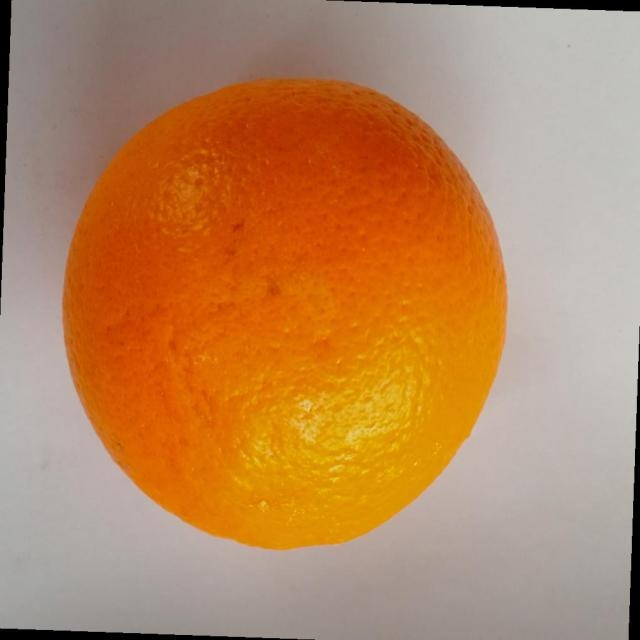agrume: (60, 75, 509, 551)
